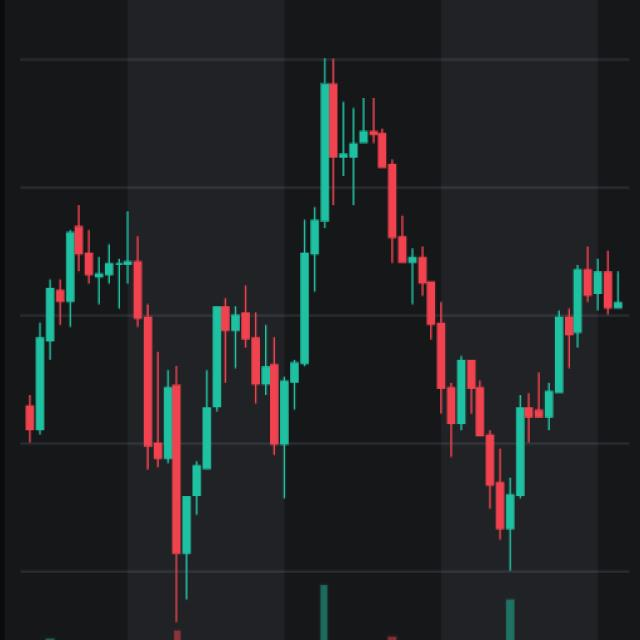Resistance-Emerging: (8, 220, 627, 559)
Resistance-breakout: (176, 31, 382, 465)
